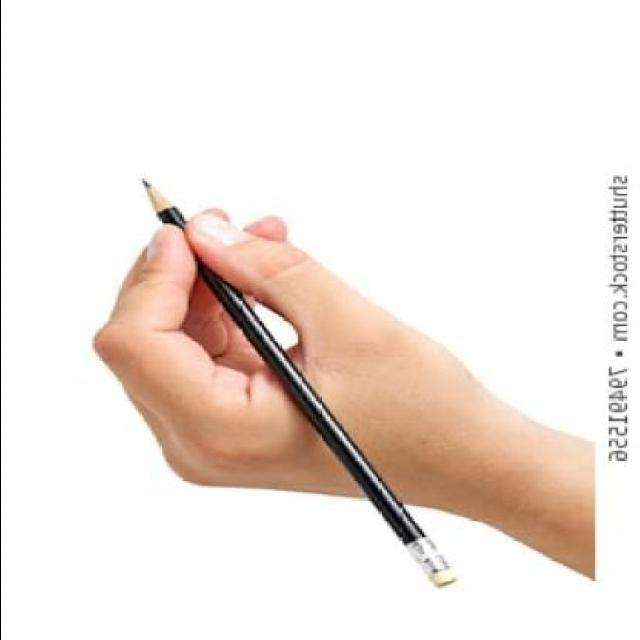pencil: (130, 175, 184, 227)
